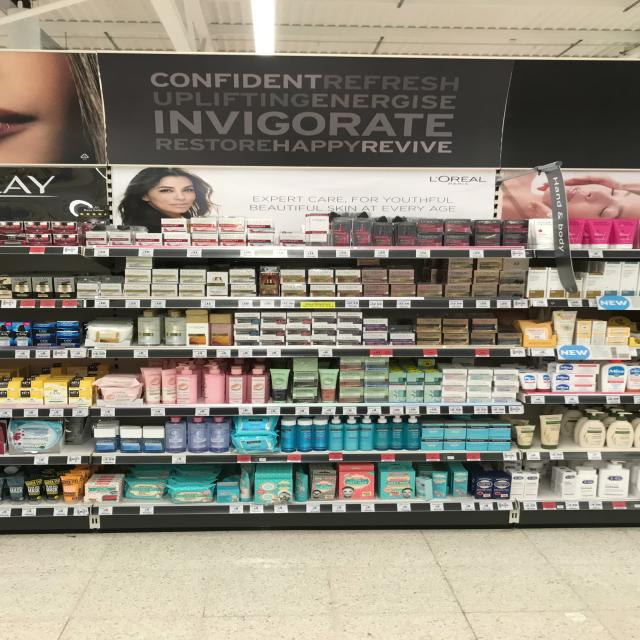empty: (58, 416, 94, 454)
